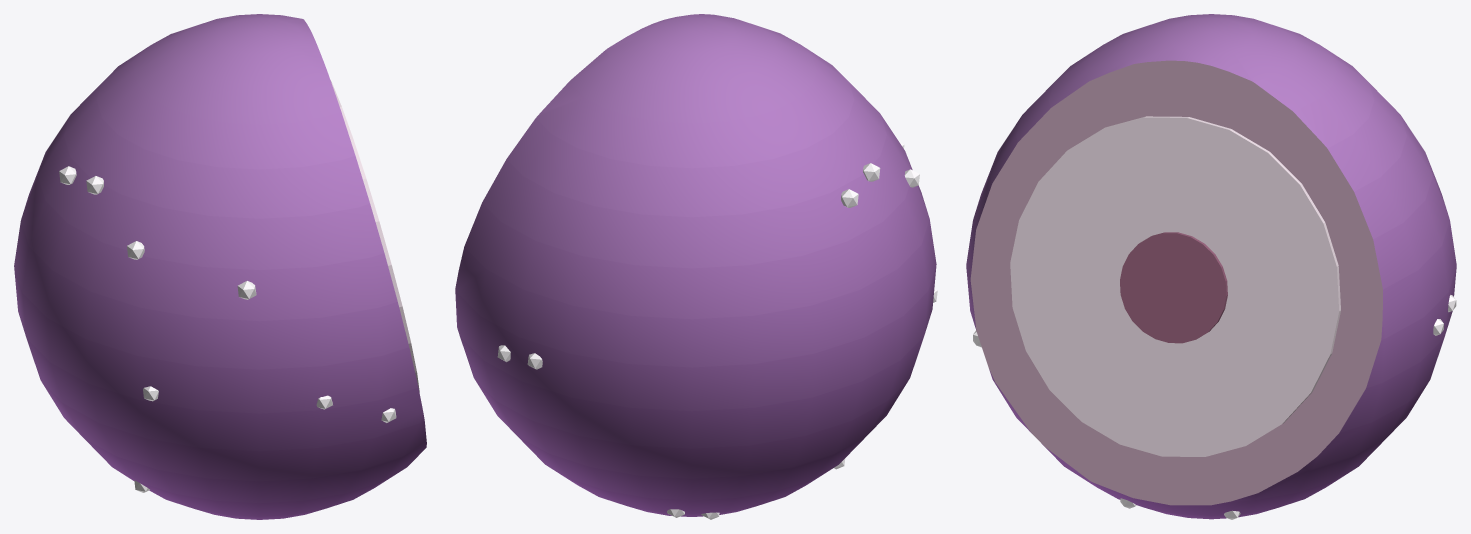
The model's file is Sugar_Plum_Cut.glb.
3 renders of one model, left to right at view 1: azimuth 30°, elevation 25°; view 2: azimuth 150°, elevation 25°; view 3: azimuth 270°, elevation 25°, orthographic.
Visible parts, largest first — view 1: SugarPlum, SP_Sugar, SP_Flesh; view 2: SugarPlum, SP_Sugar; view 3: SugarPlum, SP_Flesh, SP_Pit, SP_Sugar.
Boxes of the visible parts, x1=… form: SugarPlum: x1=14, y1=14, x2=426, y2=519; SP_Sugar: x1=59, y1=166, x2=396, y2=492; SP_Flesh: x1=330, y1=80, x2=419, y2=391; SugarPlum: x1=455, y1=14, x2=936, y2=516; SP_Sugar: x1=497, y1=142, x2=937, y2=519; SugarPlum: x1=966, y1=14, x2=1456, y2=519; SP_Flesh: x1=1010, y1=116, x2=1340, y2=456; SP_Pit: x1=1120, y1=232, x2=1227, y2=343; SP_Sugar: x1=973, y1=295, x2=1456, y2=519.
Bounding box in the file's own units: 0.8774 × 1.05 × 1.
